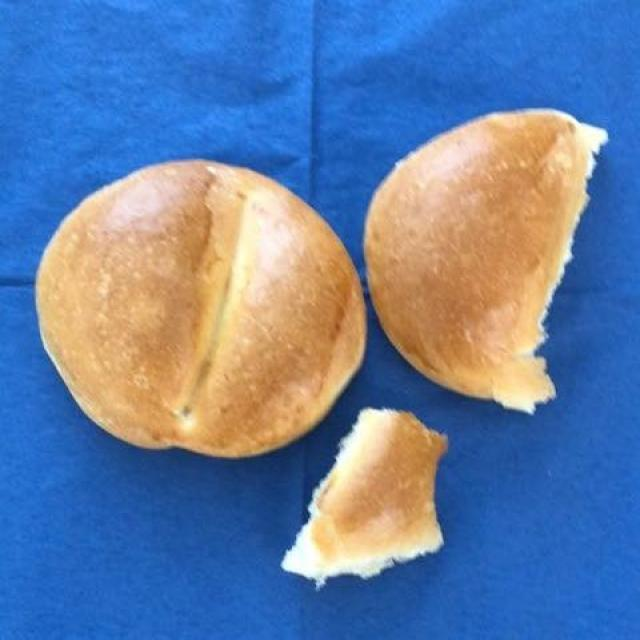bread: (32, 107, 618, 585)
